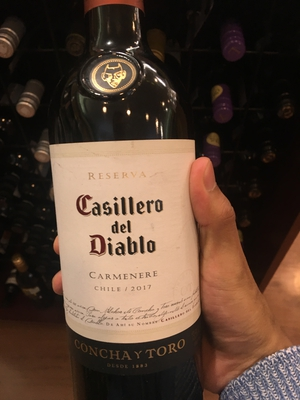casillero del diablo carmenere: (48, 16, 222, 396)
